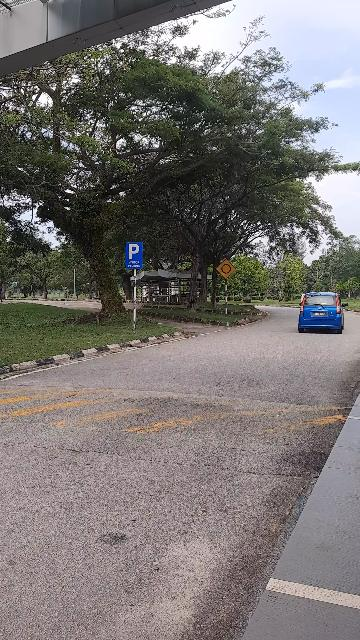License_Plate: (312, 313, 329, 318)
car: (298, 291, 346, 336)
